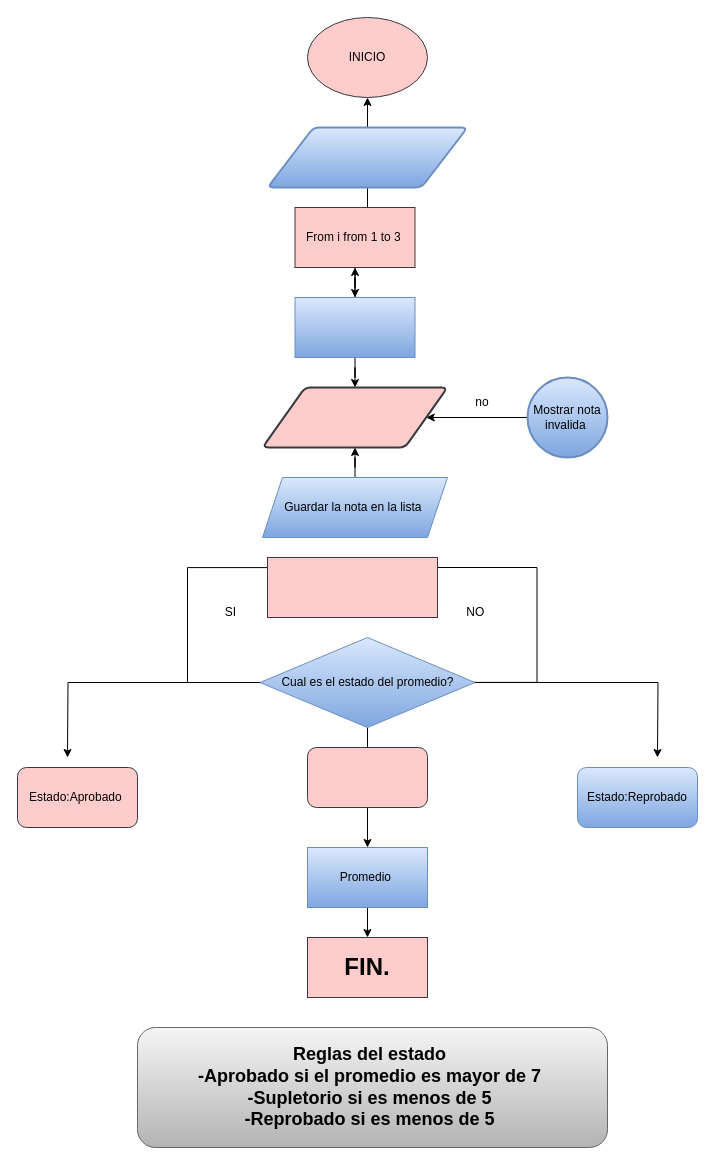
This 715x1165 diagram has some shape labels left out. The centre of each missing label's shape, as x and y in pixels:
"Estado: Supletorio" belongs at (x=367, y=777).
"incrementar +1" belongs at (x=352, y=587).
"La nota esta entre 0 y 10" belongs at (x=354, y=417).
"PEDIR EL NOMBRE DEL ESTUDIANTE" belongs at (x=367, y=157).
"Pedir nota i" belongs at (x=354, y=327).
